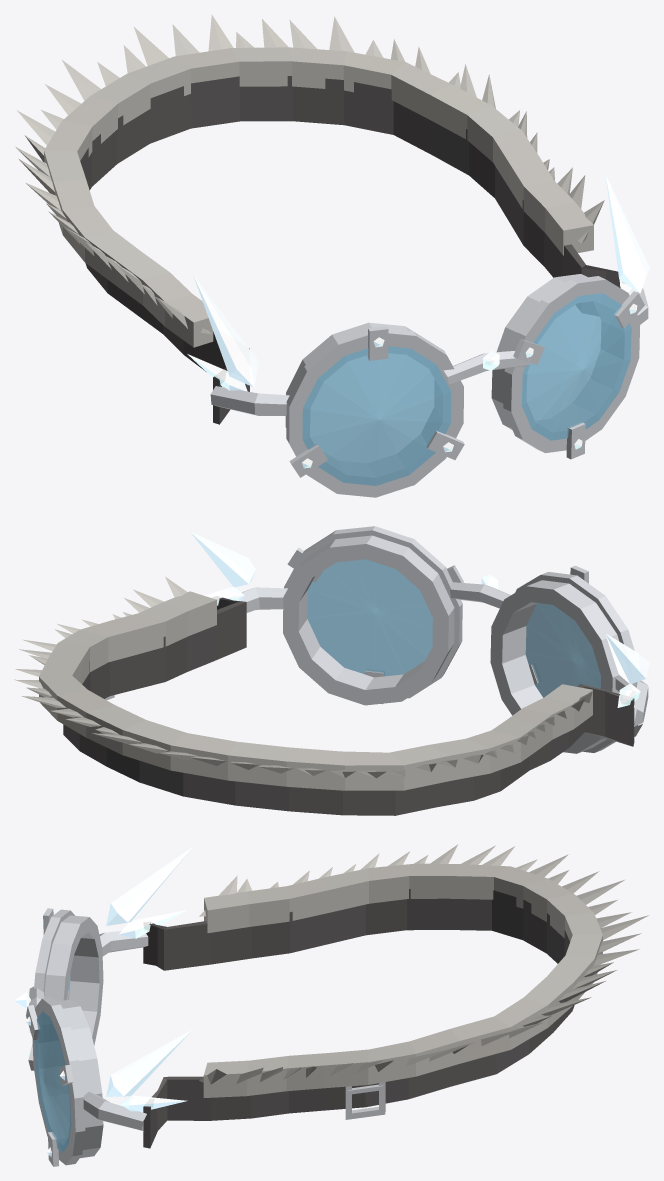
The model's file is goggles_t2.fbx.
3 views of the same model, one above another, from view 1: azimuth 30°, elevation 25°; view 2: azimuth 150°, elevation 25°; view 3: azimuth 270°, elevation 25° (orthographic). The views are drawn at different scales.
Visible parts, largest first — view 1: goggles_t2; view 2: goggles_t2; view 3: goggles_t2.
Boxes of the visible parts, x1,y1,x2,y2 form: goggles_t2: [15, 14, 649, 497]; goggles_t2: [14, 526, 649, 815]; goggles_t2: [14, 844, 648, 1166].
Size of the model in its own units: 19.44 by 8.66 by 25.28.
